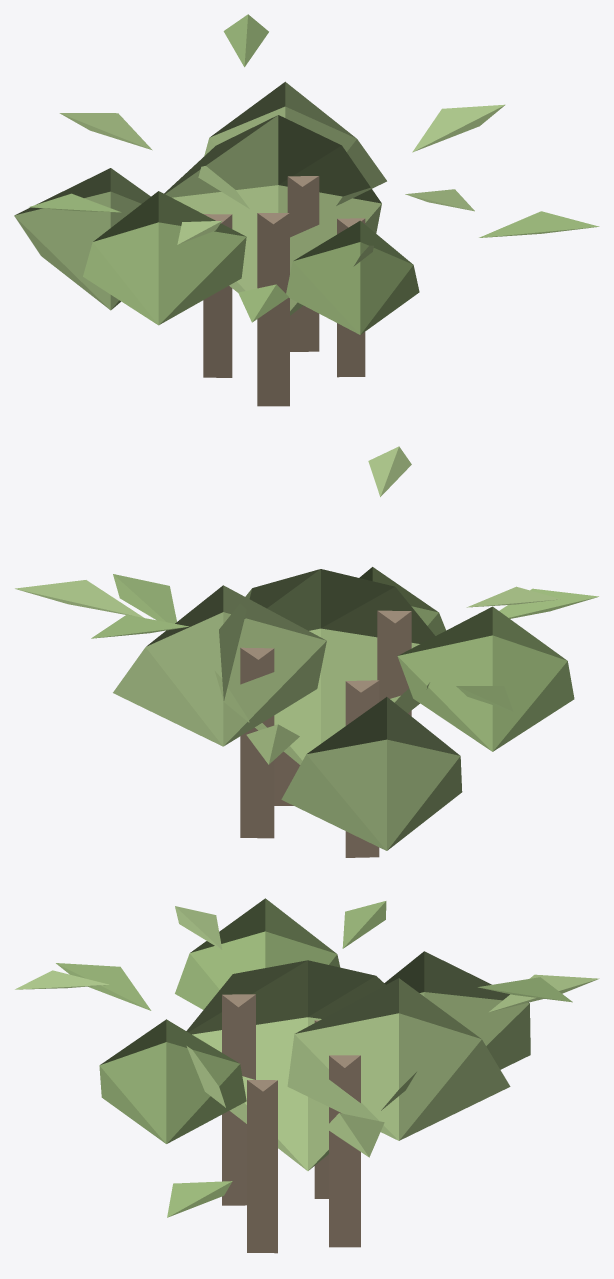
Rendered from guan.lianqiao@subadult__spring.glb.
The picture shows the model from 3 angles, top to bottom: view 1: azimuth 30°, elevation 25°; view 2: azimuth 150°, elevation 25°; view 3: azimuth 270°, elevation 25°; orthographic projection. The views are drawn at different scales.
Visible parts, largest first — view 1: guan.lianqiao@subadult__spring; view 2: guan.lianqiao@subadult__spring; view 3: guan.lianqiao@subadult__spring.
Part boxes in pixels (x1=…): guan.lianqiao@subadult__spring: x1=14, y1=14, x2=599, y2=406; guan.lianqiao@subadult__spring: x1=15, y1=446, x2=598, y2=857; guan.lianqiao@subadult__spring: x1=15, y1=898, x2=599, y2=1253.
Bounding box in the file's own units: 1.69 × 0.8787 × 1.67.
